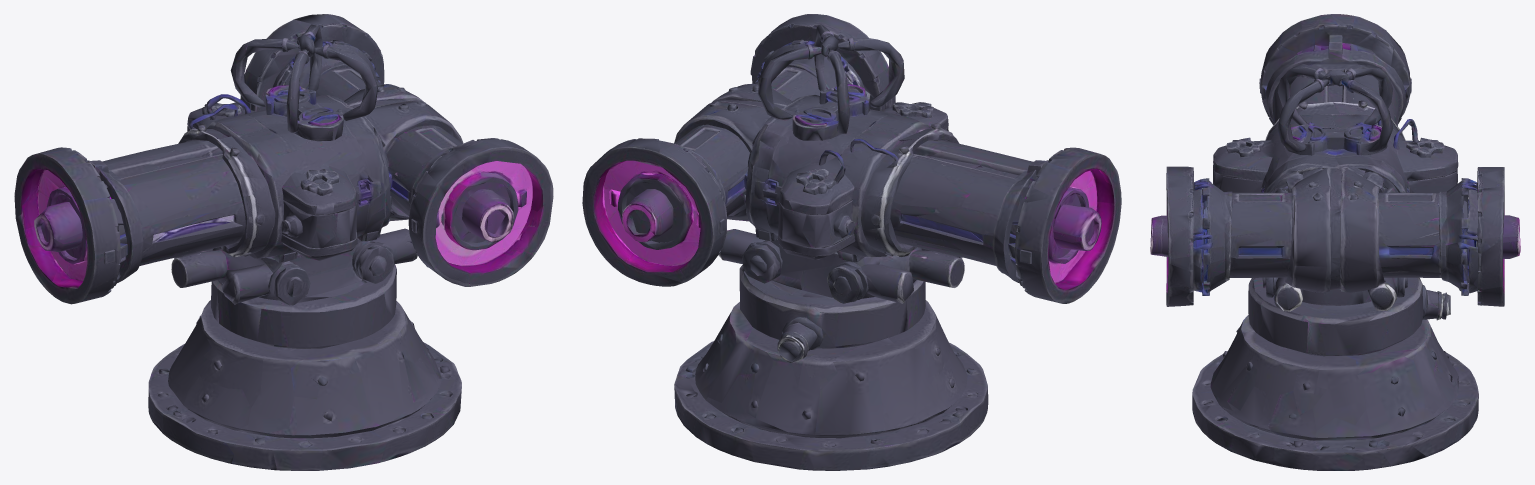
The model's file is cannon-mount.glb.
3 renders of one model, left to right at view 1: azimuth 30°, elevation 25°; view 2: azimuth 150°, elevation 25°; view 3: azimuth 270°, elevation 25°, orthographic. The views are drawn at different scales.
Bounding box in the file's own units: 1.9 × 1.6 × 1.57.
Materials: 1 (1 with a texture image).
